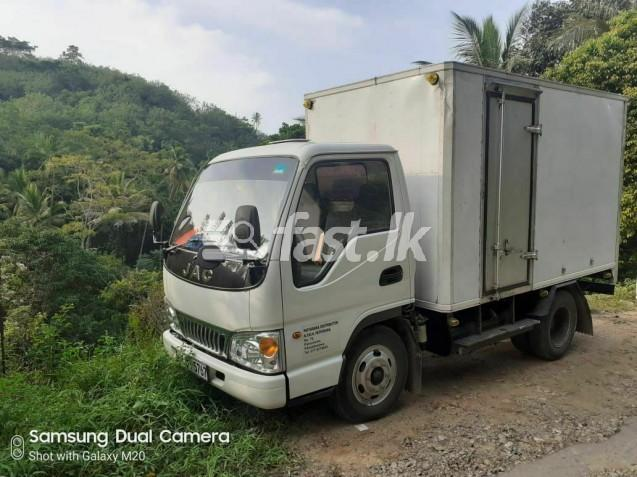truck: (150, 61, 634, 421)
